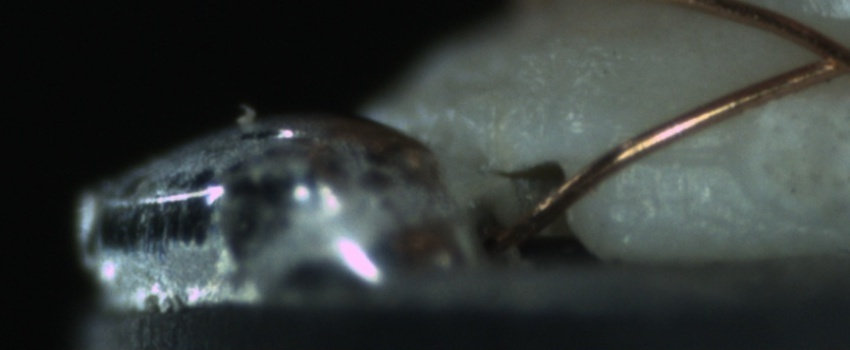CL: (797, 27, 850, 85)
DL: (634, 123, 730, 187)
